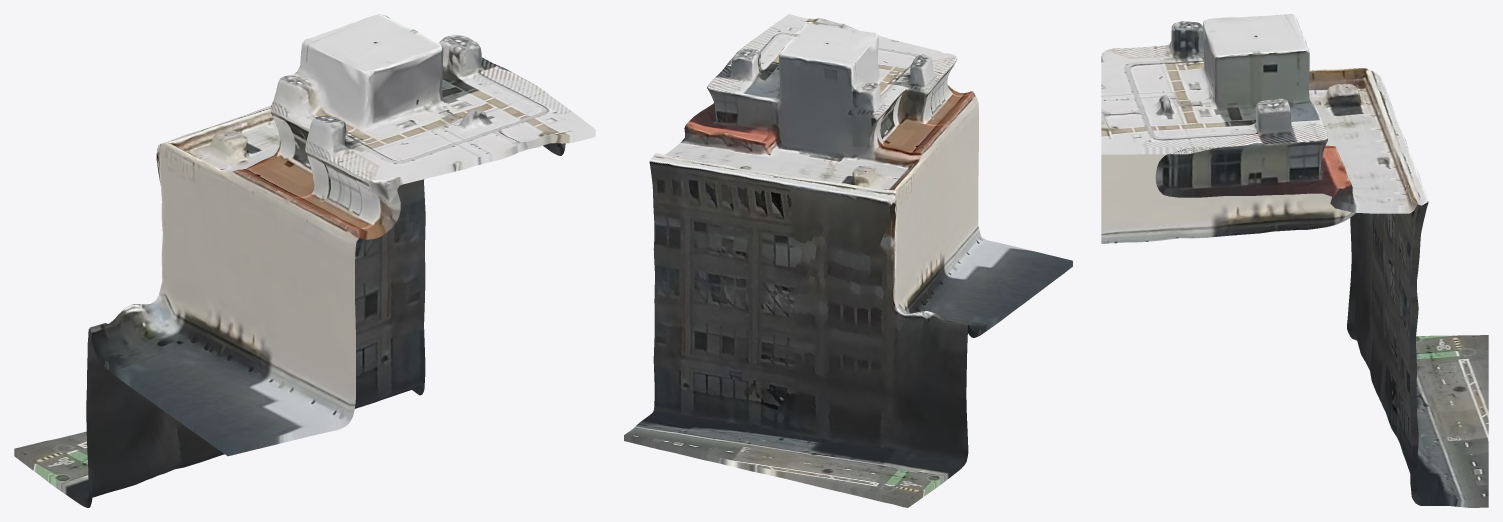
The model's file is z20-167773-405233-h0-yup-uvflip-v3-world.glb.
The picture shows the model from 3 angles, left to right: view 1: azimuth 30°, elevation 25°; view 2: azimuth 150°, elevation 25°; view 3: azimuth 270°, elevation 25°; orthographic projection. The views are drawn at different scales.
Size of the model in its own units: 30.16 by 35.72 by 30.32.
Materials: 1 (1 with a texture image).
